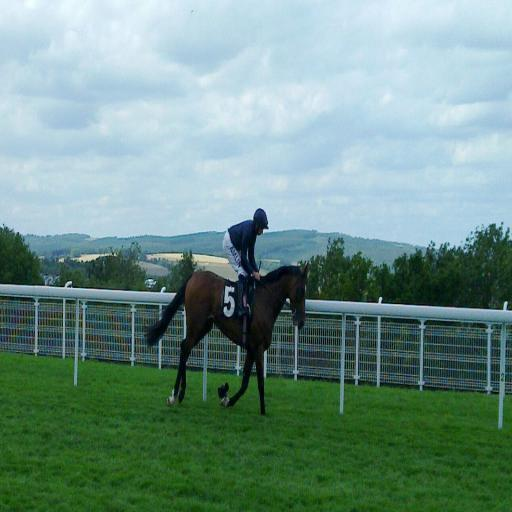horse: (146, 262, 310, 414)
